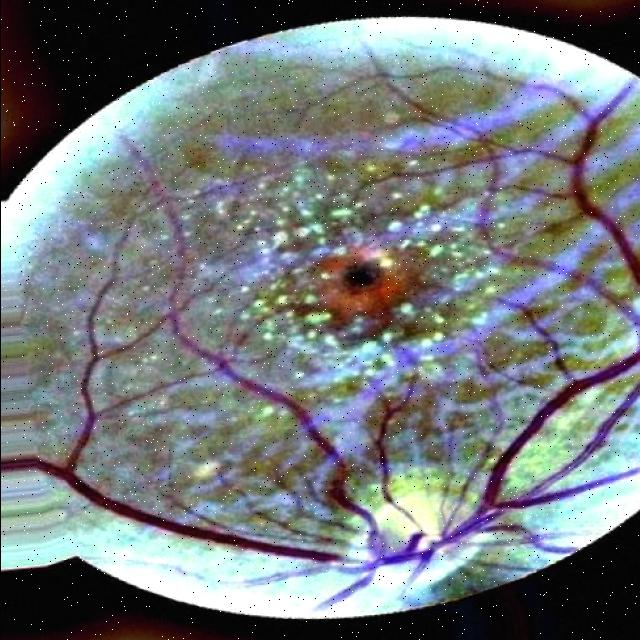Macula: (314, 231, 415, 334)
Nerves: (71, 170, 434, 569), (432, 109, 640, 552), (373, 383, 426, 539)
Optic Disk: (337, 462, 492, 598)
